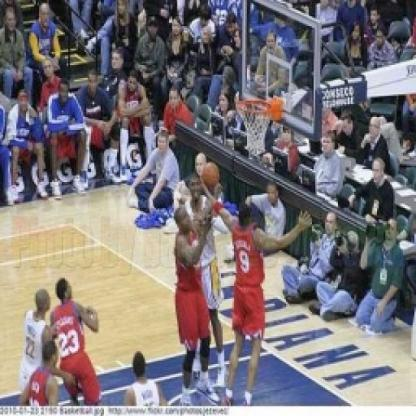basketball: (199, 156, 223, 191)
